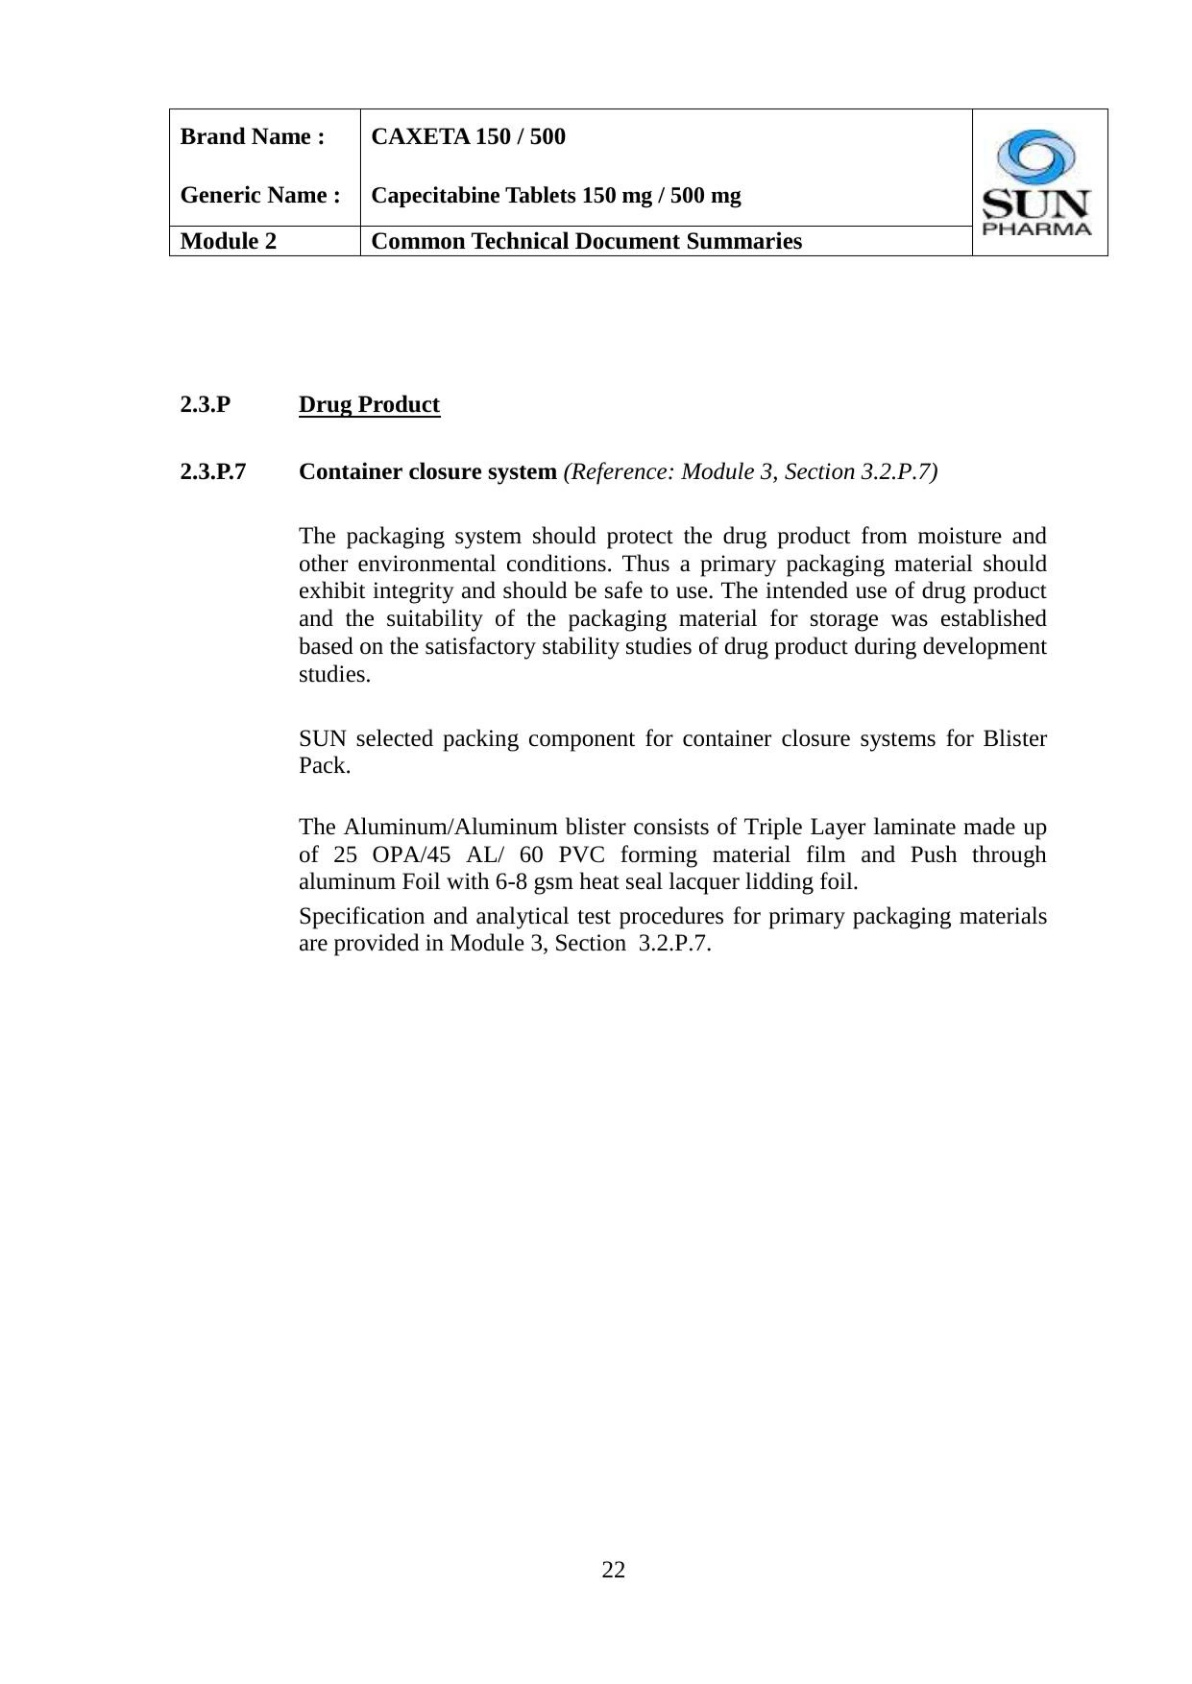merged_cells: (166, 106, 1111, 259)
